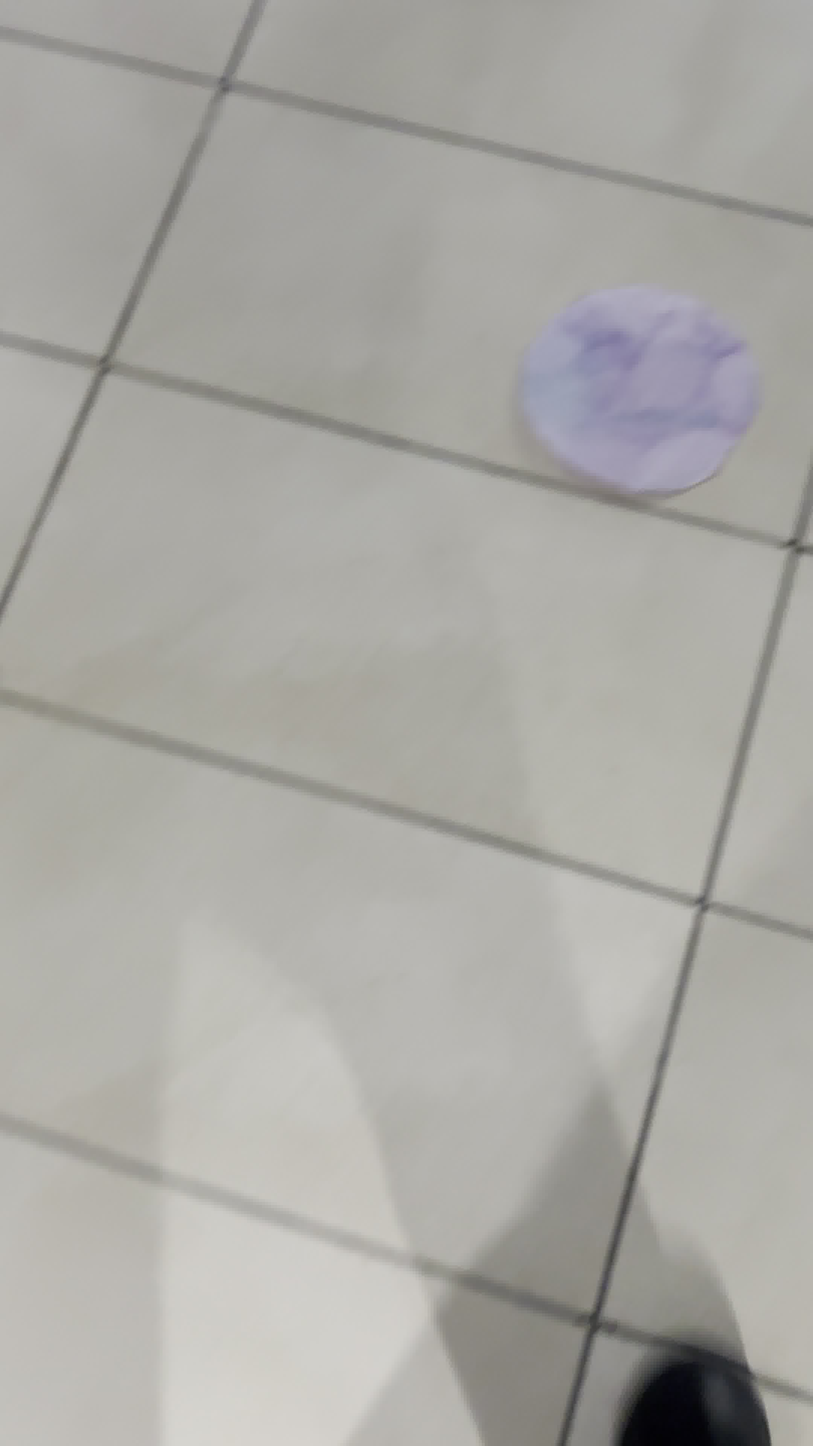Target: (509, 284, 761, 497)
